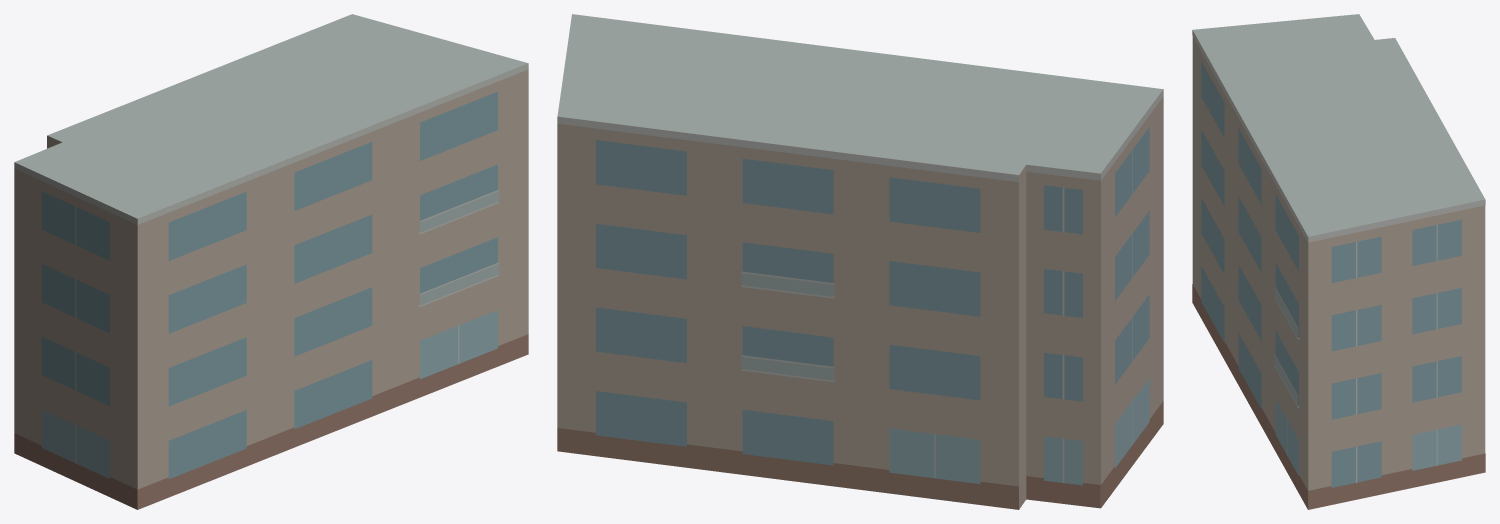
The model's file is survey-upis-32530834.glb.
3 renders of one model, left to right at view 1: azimuth 30°, elevation 25°; view 2: azimuth 150°, elevation 25°; view 3: azimuth 270°, elevation 25°, orthographic. The views are drawn at different scales.
Visible parts, largest first — view 1: survey-upis-32530834.tmp; view 2: survey-upis-32530834.tmp; view 3: survey-upis-32530834.tmp.
Boxes of the visible parts, bbox=[...] form: survey-upis-32530834.tmp: bbox=[14, 14, 528, 509]; survey-upis-32530834.tmp: bbox=[557, 14, 1163, 509]; survey-upis-32530834.tmp: bbox=[1192, 14, 1485, 509].
Bounding box in the file's own units: 20.24 × 11.55 × 11.24.
